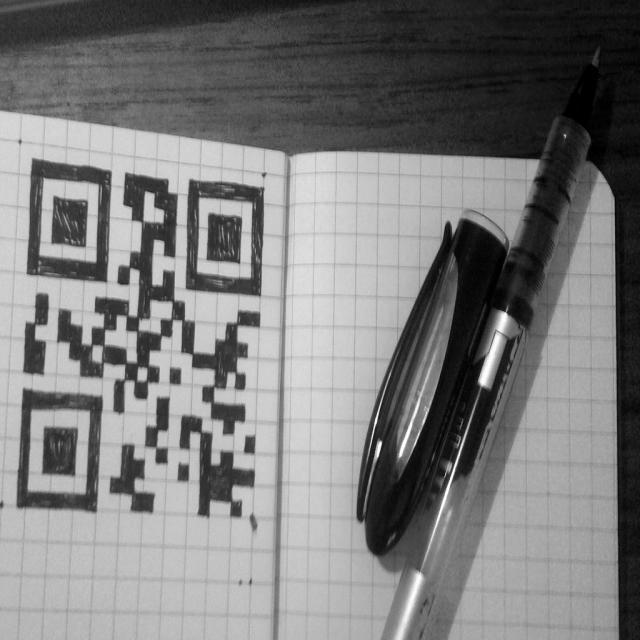qrcode: (17, 160, 265, 518)
